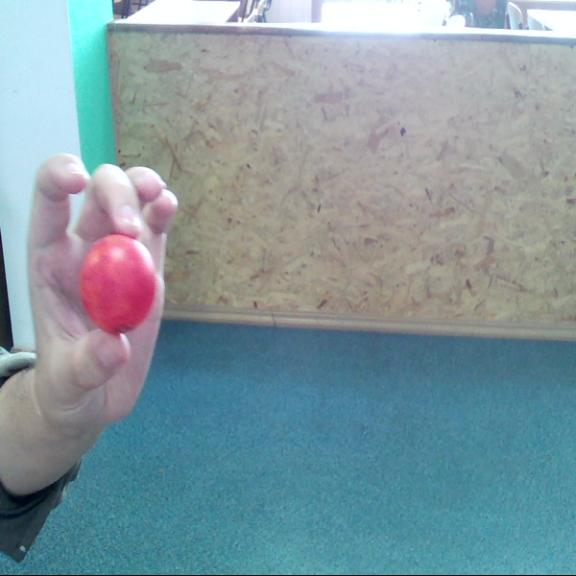ball: (80, 232, 158, 334)
